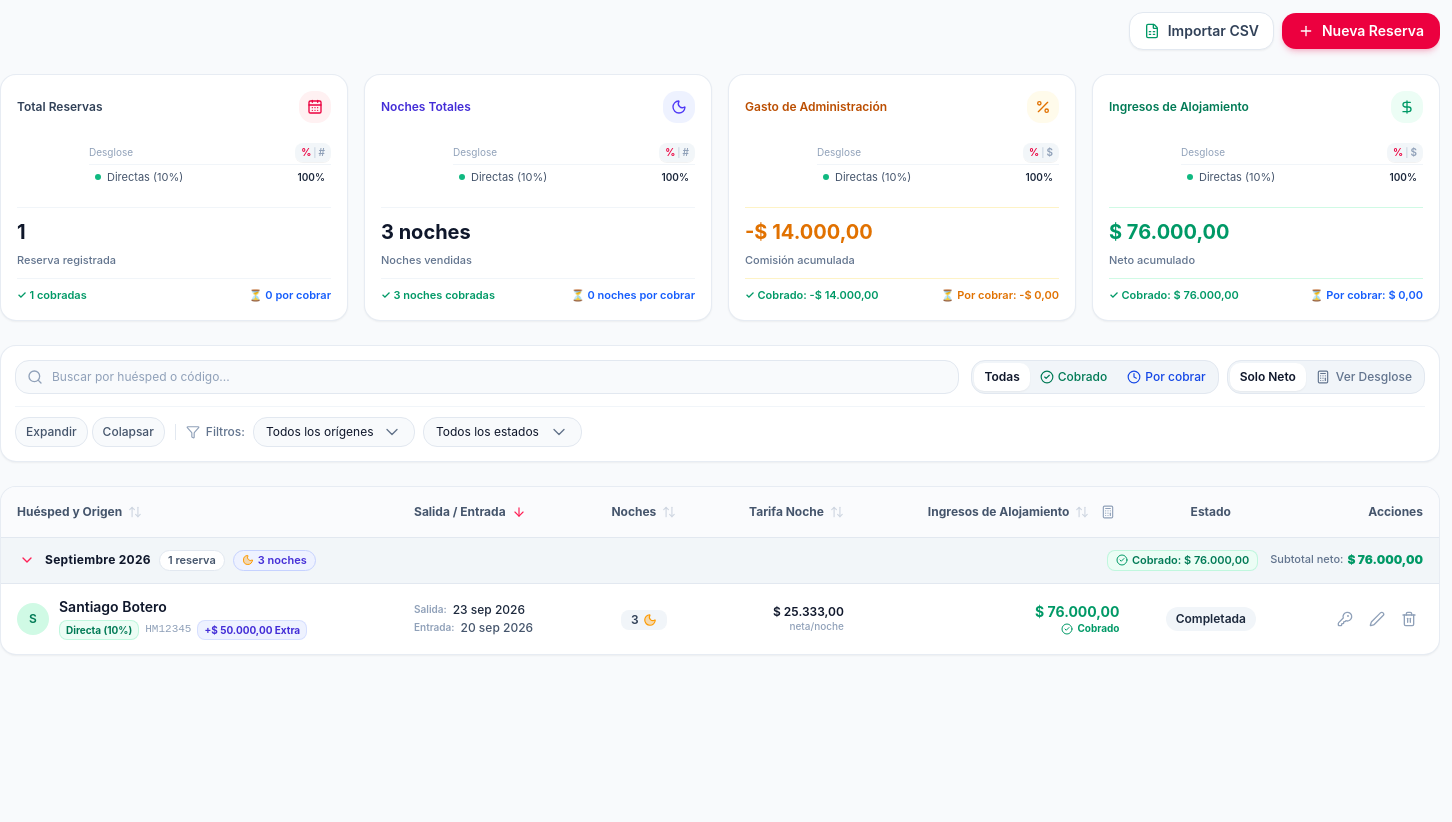
Bookings Route - Revenue Breakdown and Toggle › Bookings with Extra Charges (e.g. late check-out) › displays extra amount badge and shows extra row in breakdown mode
This screenshot has width=1452, height=822.
Expected: the text "Santiago Botero" is shown, [59,598,167,615]
Note: Open breakdown by clicking the calculation toggle button
Click the button titled "Ver desglose de cálculo". click: (1108, 512)
box: [1098,500,1120,522]
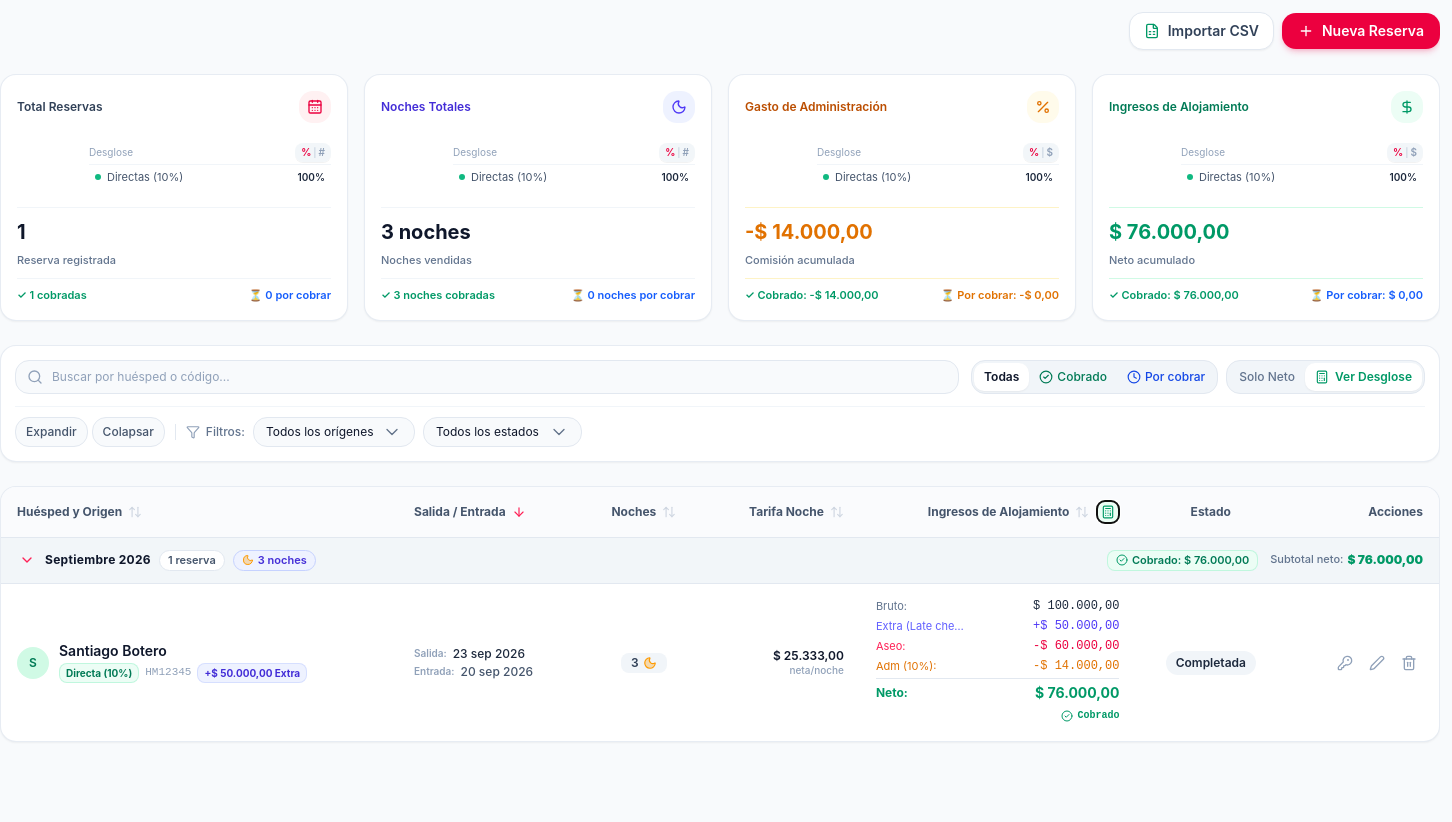
Expected: the text "Extra (Late check-out 5 horas):" is shown, [876,619,966,634]
